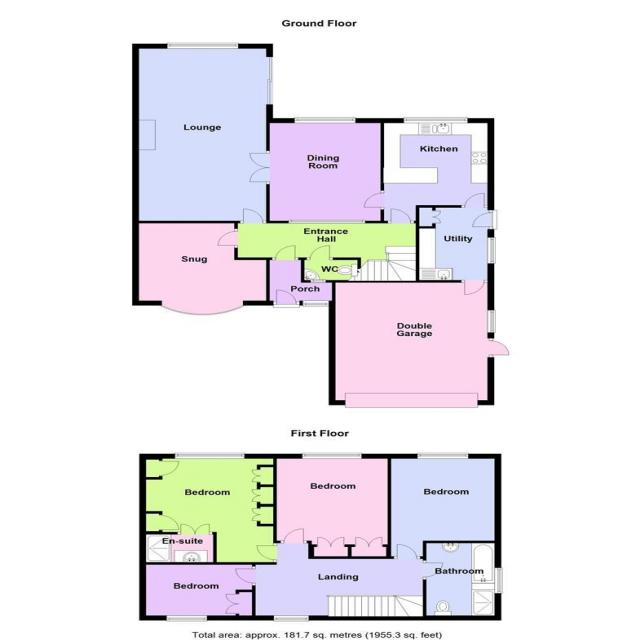DOOR: (272, 289, 301, 308), (471, 210, 498, 229), (459, 280, 489, 296), (393, 543, 421, 559), (256, 542, 277, 563), (422, 560, 444, 580), (234, 566, 256, 586), (363, 190, 385, 210), (238, 208, 267, 223), (177, 523, 213, 535), (279, 528, 307, 543), (387, 208, 415, 223), (460, 193, 488, 208), (217, 228, 238, 248)
DOUBLE DOOR: (248, 150, 270, 185)
ROOM: (131, 43, 273, 224), (139, 453, 277, 565), (248, 118, 385, 224), (363, 118, 495, 224), (132, 220, 270, 316), (273, 453, 392, 559), (386, 453, 502, 559), (139, 562, 256, 622)
SLIDING DOOR: (265, 56, 274, 105)
WINDOW: (160, 304, 246, 316), (166, 42, 239, 50), (403, 117, 469, 124), (293, 117, 356, 124), (174, 453, 246, 459), (301, 452, 362, 459), (417, 452, 469, 459), (288, 220, 366, 224), (166, 615, 208, 622), (486, 237, 496, 264), (273, 615, 310, 622), (494, 567, 503, 594), (302, 300, 330, 307)
